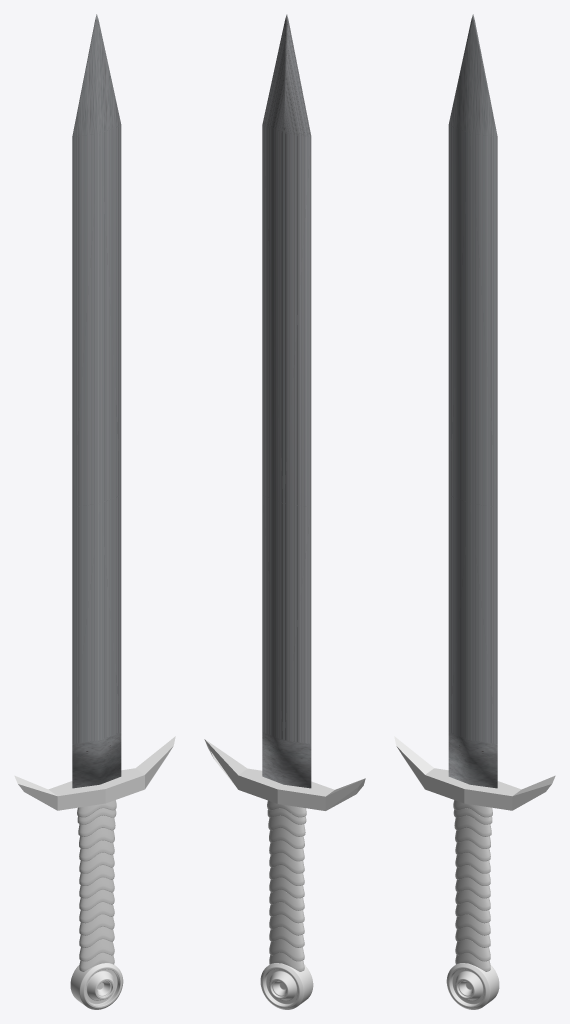
Rendered from sword01.fbx.
3 renders of one model, left to right at view 1: azimuth 30°, elevation 25°; view 2: azimuth 150°, elevation 25°; view 3: azimuth 330°, elevation 25°, orthographic.
Visible parts, largest first — view 1: Celz; view 2: Celz; view 3: Celz.
Boxes of the visible parts, <box> form: Celz: <box>14,14,175,1009</box>; Celz: <box>204,14,365,1009</box>; Celz: <box>394,14,555,1009</box>.
Bounding box in the file's own units: 736 × 4319 × 146.
